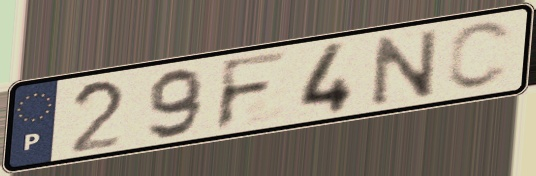2: (66, 77, 132, 156)
4: (295, 38, 358, 117)
9: (145, 65, 207, 141)
C: (443, 19, 517, 93)
F: (212, 47, 292, 134)
N: (369, 25, 442, 110)
